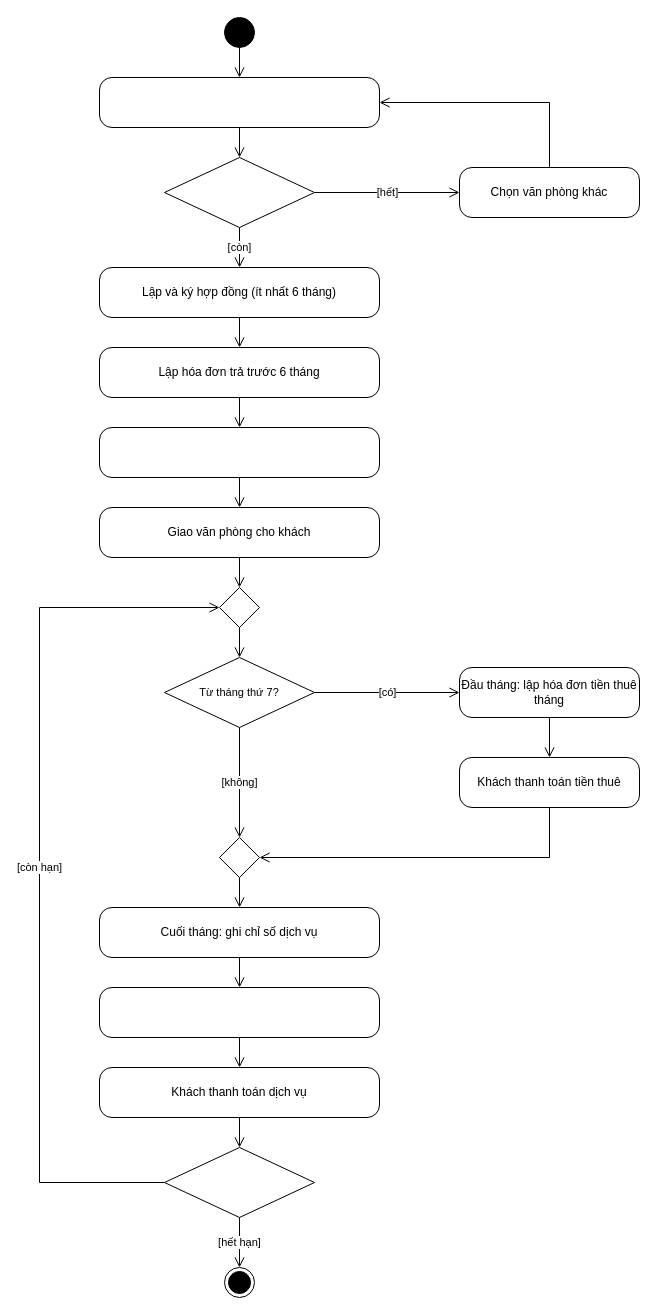
Some shapes in this 657 by 1315 pixel diagram are drawn without their labels. The box of each missing label's shape, as (x1, y1, x2, y2) in pixels:
Còn thời hạn thuê?: (164, 1146, 314, 1218)
Khách chọn văn phòng thuê: (98, 76, 380, 128)
Khách thanh toán trả trước: (98, 426, 380, 478)
Lập hóa đơn dịch vụ: (98, 986, 380, 1038)
Phòng còn trống?: (164, 156, 314, 228)
